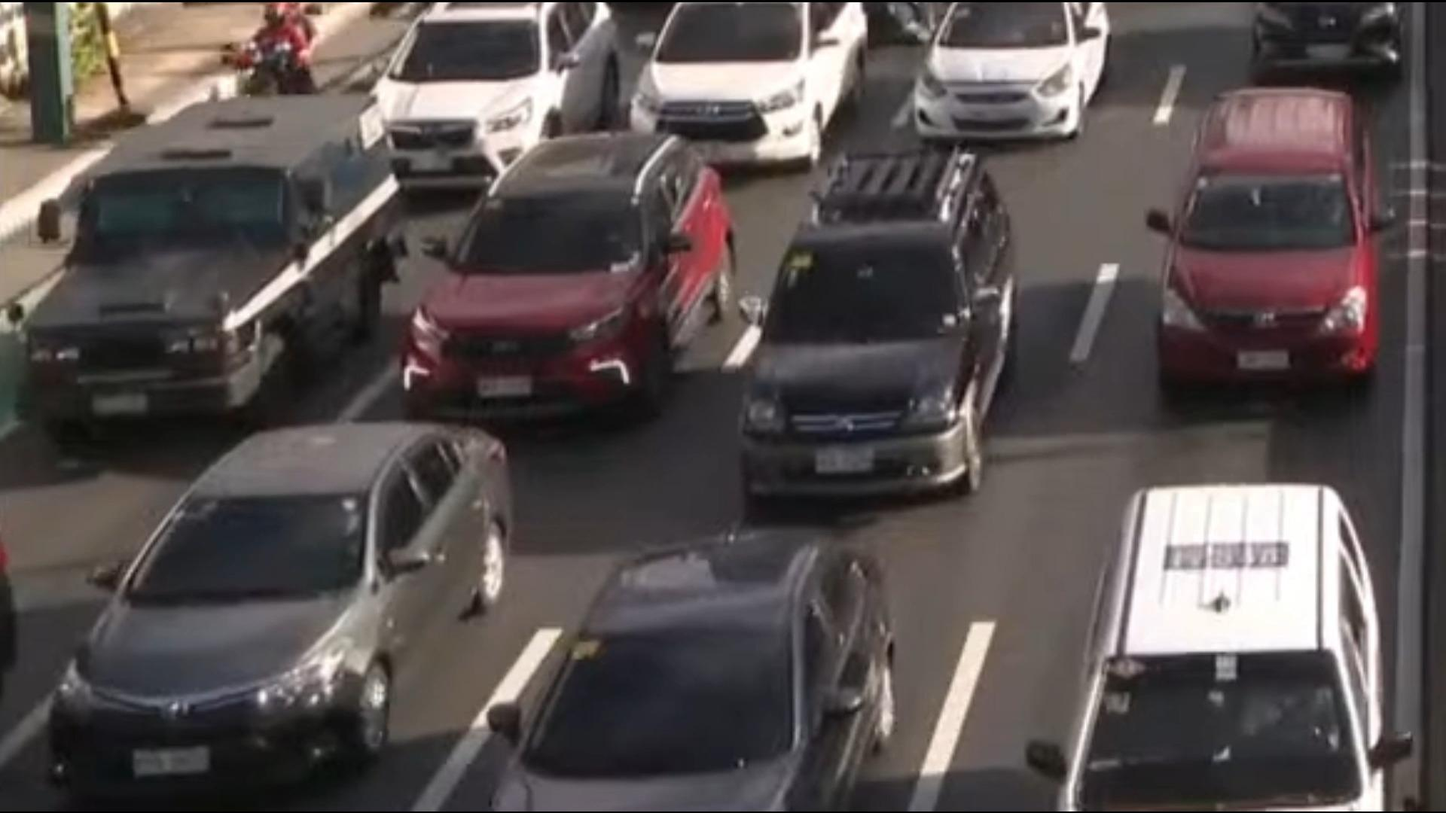Motorcycle: (238, 0, 339, 115)
SUV: (1022, 460, 1446, 813), (0, 89, 407, 444), (707, 136, 1042, 523), (1111, 66, 1405, 443), (403, 113, 740, 429), (353, 0, 637, 205), (608, 0, 883, 182), (896, 0, 1126, 154)
Sedan: (54, 401, 546, 786), (457, 509, 930, 813)
